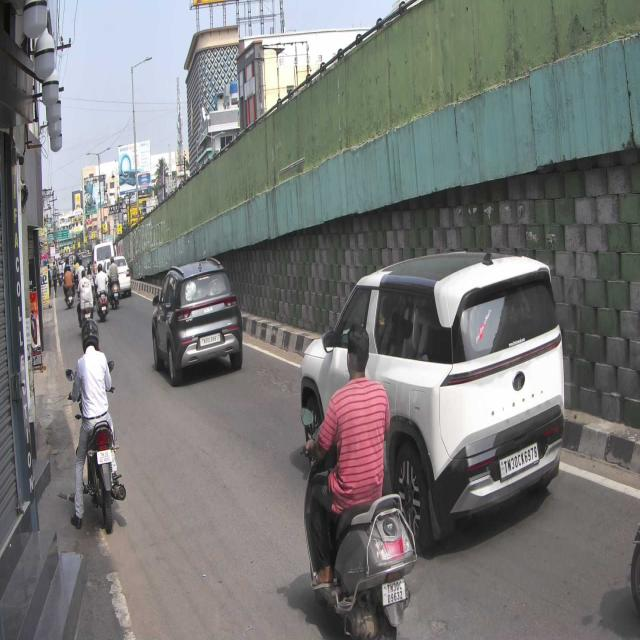single_rider: (302, 318, 418, 640), (66, 313, 130, 535)
